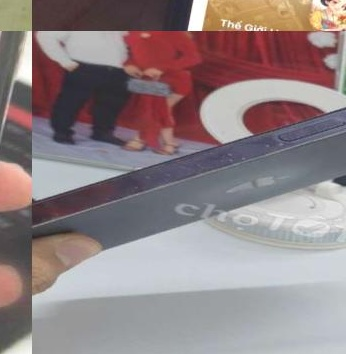scratch: (170, 112, 303, 203), (75, 157, 165, 222), (300, 54, 346, 158)
